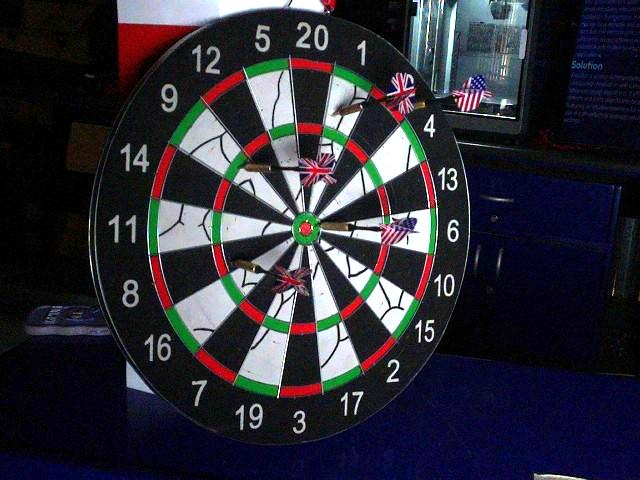bullseye: (297, 223, 318, 237)
single_1: (327, 82, 367, 131)
single_8: (226, 232, 290, 262)
single_9: (235, 169, 287, 213)
